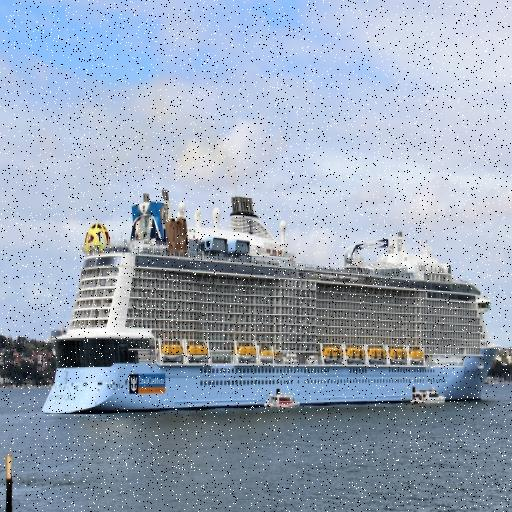cruises: (39, 186, 505, 427)
